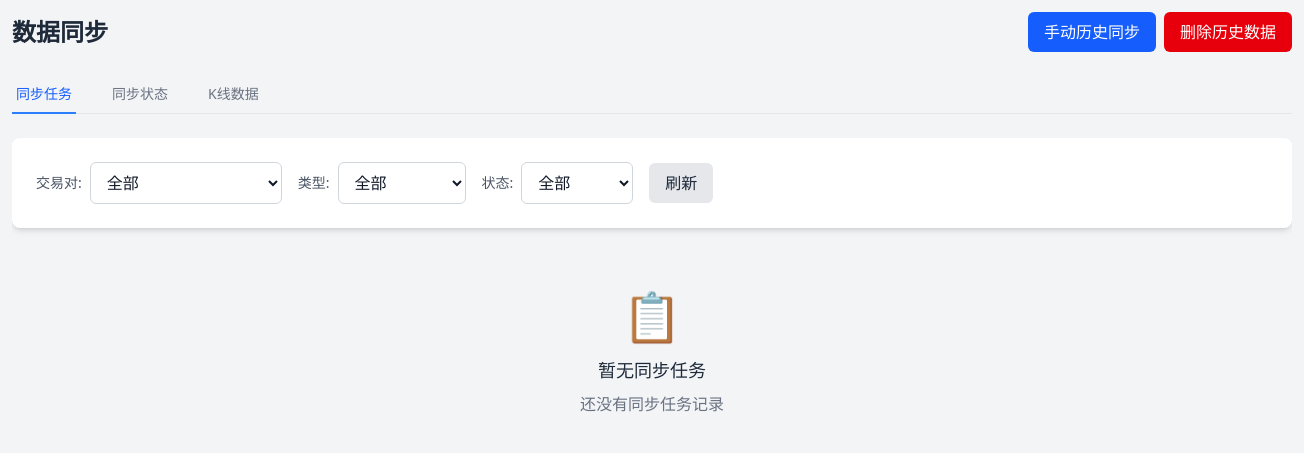
SyncTaskList - 时间范围输入与校验 › K线数据查询 › 切换到K线数据标签页应显示查询表单
Step 1. Click the button "K线数据" → {"x": 233, "y": 95}, box [204,76,263,114]
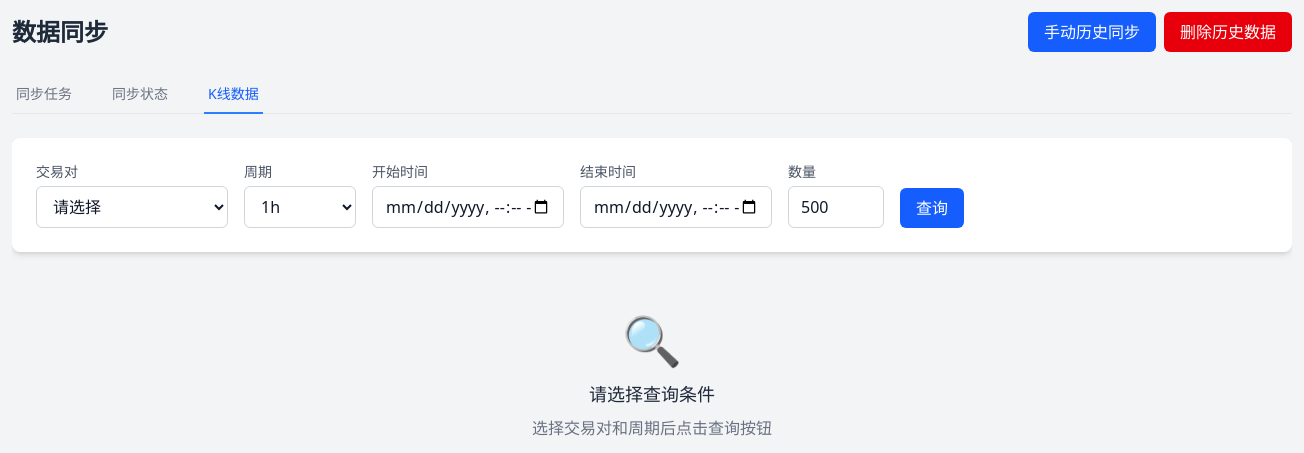
Result: the text "开始时间" is shown at [372,162,428,181]
Result: the text "结束时间" is shown at [580,162,636,181]
